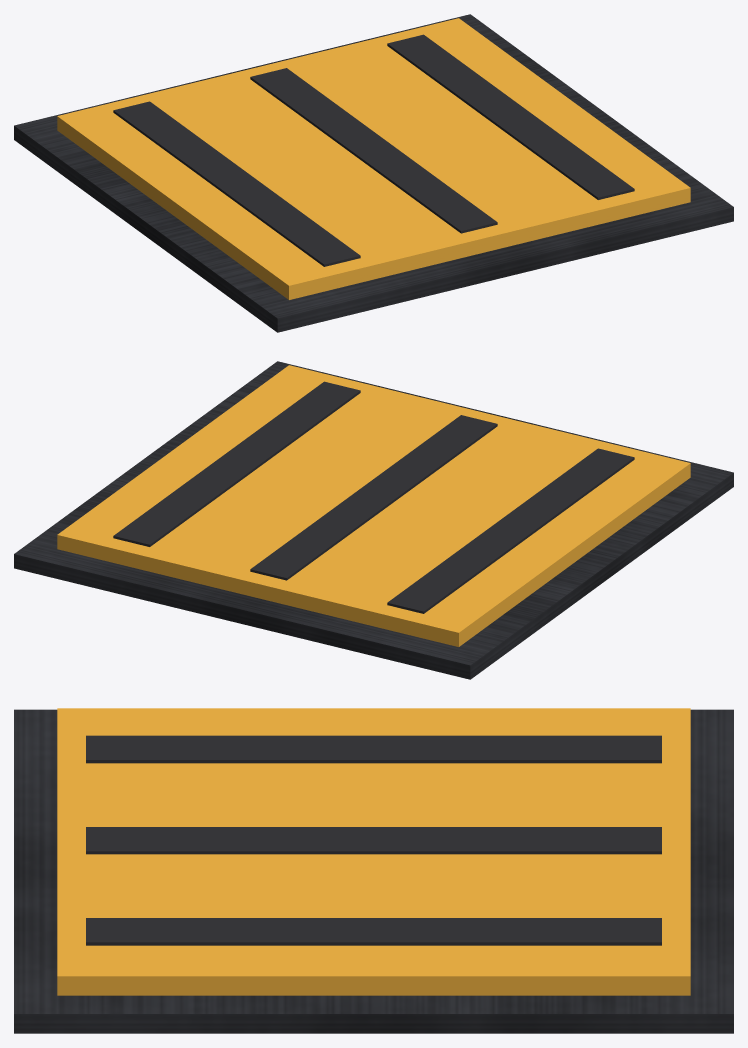
The model's file is PressurePlate.fbx.
3 renders of one model, top to bottom at view 1: azimuth 30°, elevation 25°; view 2: azimuth 150°, elevation 25°; view 3: azimuth 270°, elevation 25°, orthographic. The views are drawn at different scales.
Visible parts, largest first — view 1: PressurePlate; view 2: PressurePlate; view 3: PressurePlate.
Part boxes in pixels (x1,y1,x2,y2): PressurePlate: (14,14,733,332); PressurePlate: (14,361,733,679); PressurePlate: (14,708,733,1033).
Size of the model in its own units: 1 by 0.065 by 1.
3 materials, 1 textured.
